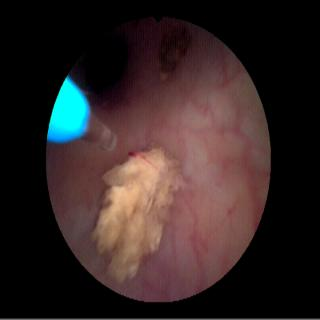stone: (92, 141, 178, 280)
tissue: (48, 79, 89, 140)
